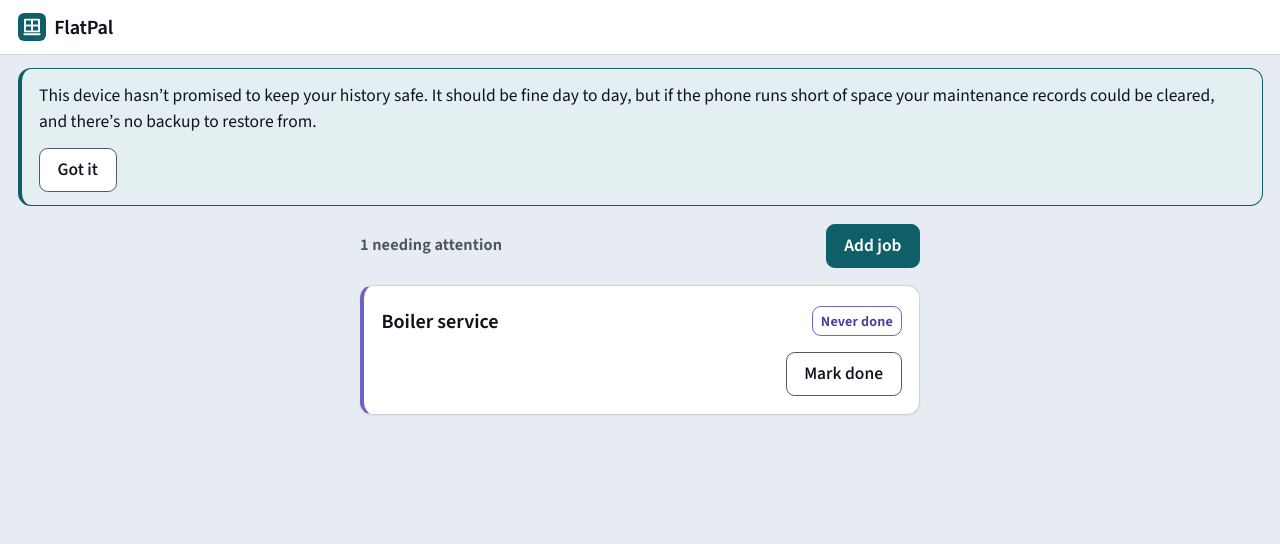
Scenario: undoing a tick-off › returns a job to never done when its only tick-off is undone
Expected: the button "Boiler service" is shown, [382,299,499,343]
Click the button "Mark done".
click(844, 374)  # box [786,352,902,396]
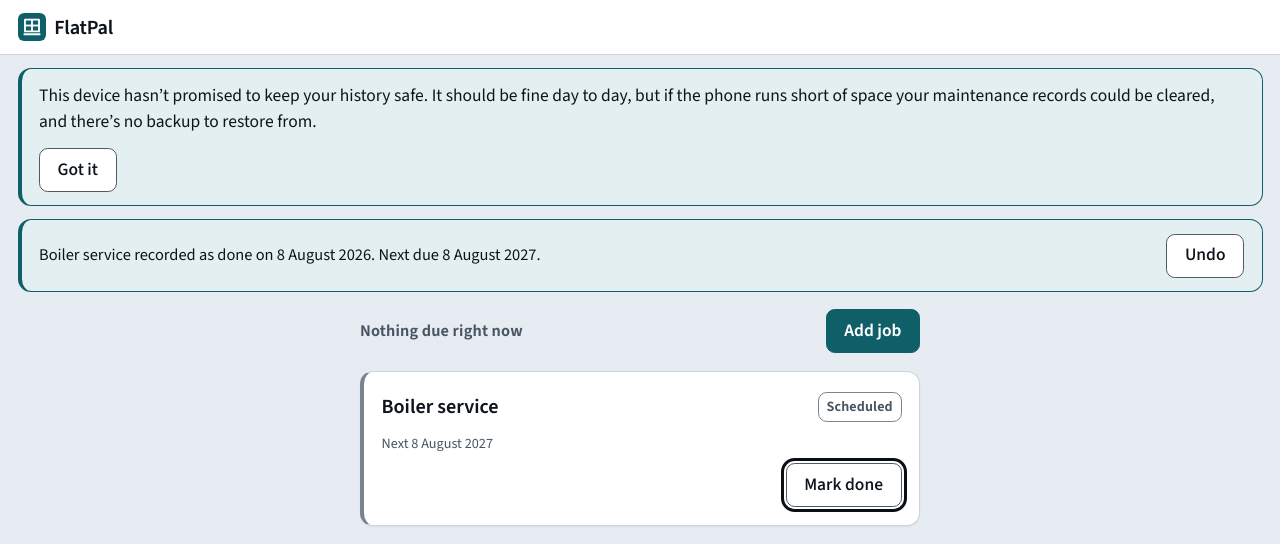
Click the button "Undo".
click(1205, 256)  # box [1166,234,1244,278]
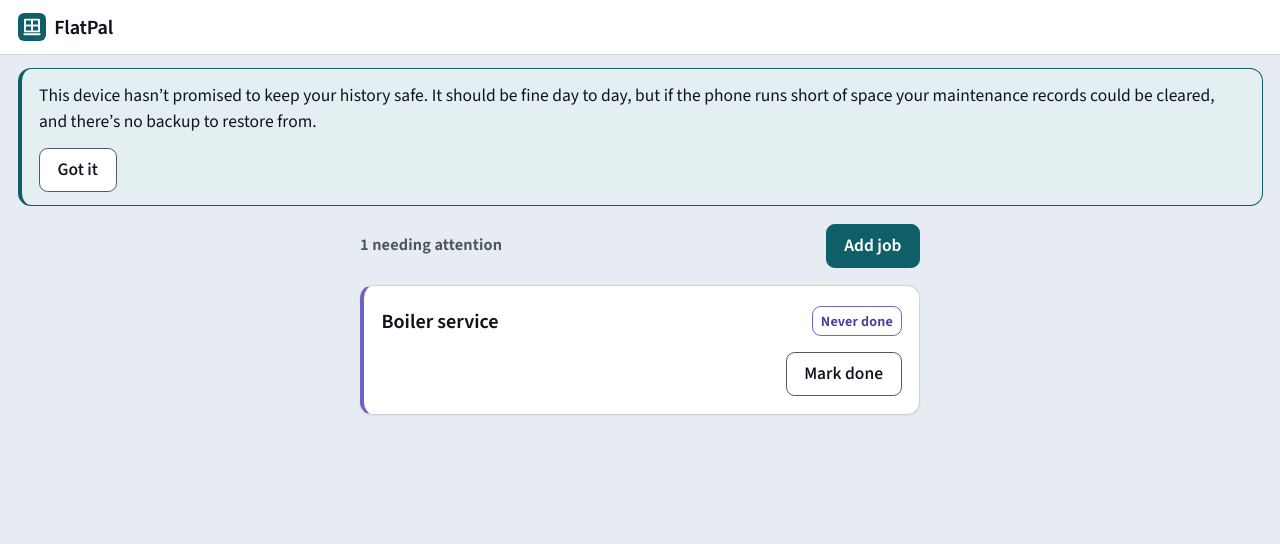
Expected: the text "Never done" is shown, [812,306,902,336]
Expected: the button "Undo" is gone
